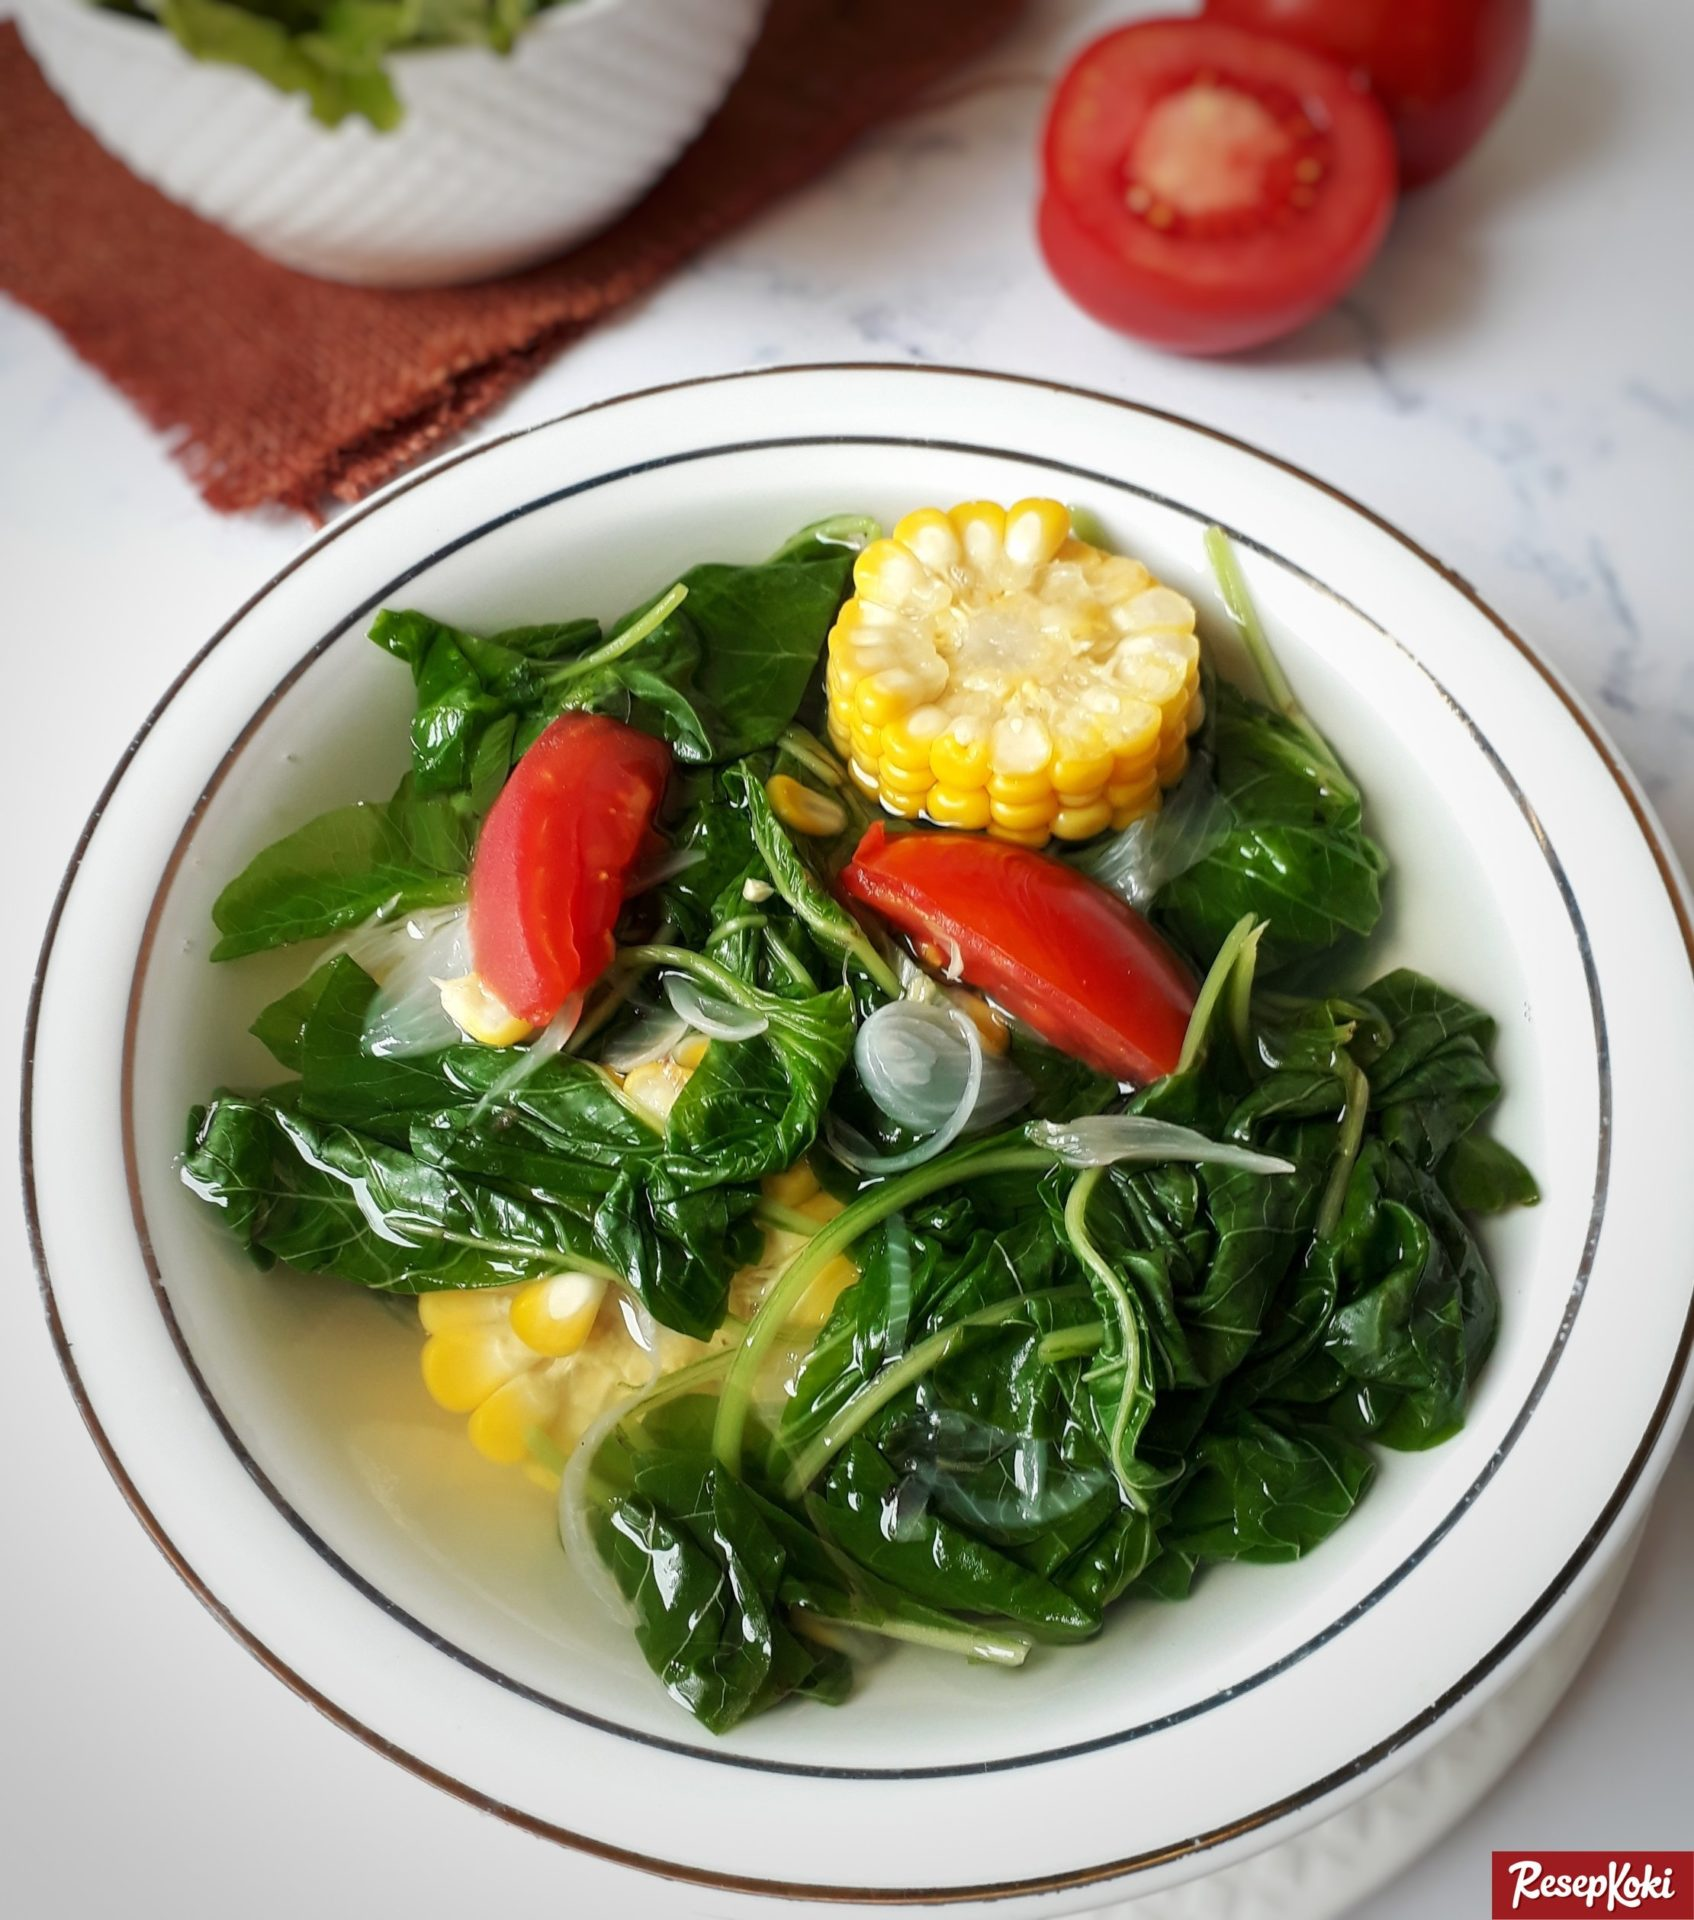Sayur Bayam: (155, 442, 1594, 1714)
